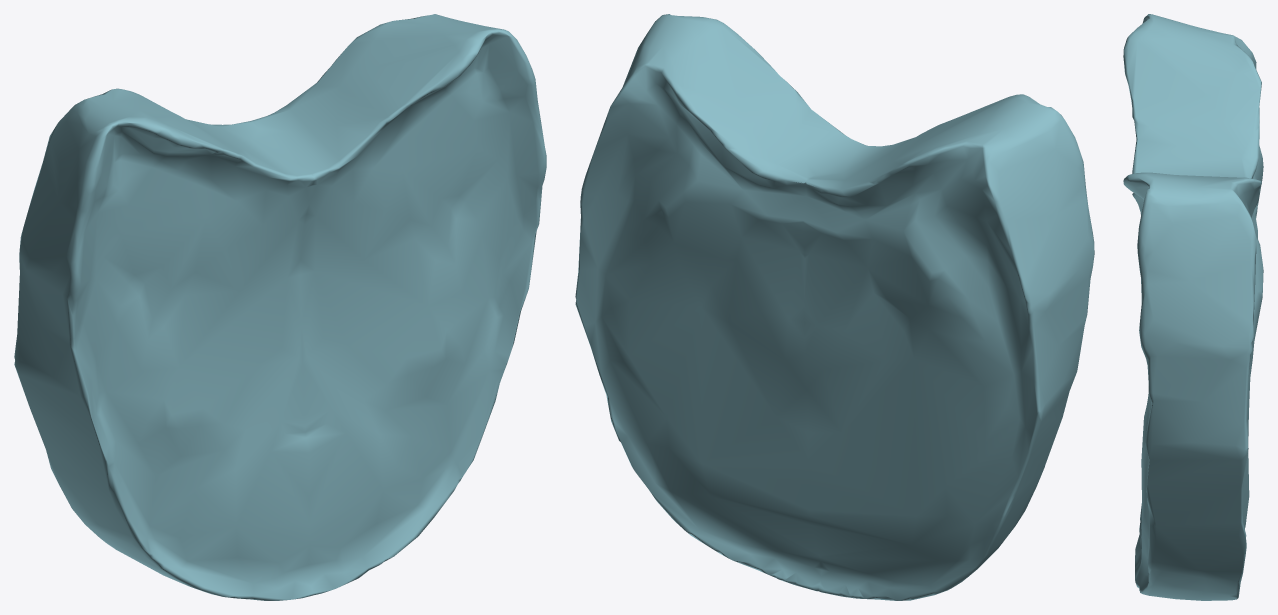
The picture shows the model from 3 angles, left to right: view 1: azimuth 30°, elevation 25°; view 2: azimuth 150°, elevation 25°; view 3: azimuth 270°, elevation 25°; orthographic projection. The views are drawn at different scales.
Parts seen in each view (by area): view 1: 胸6—胸7椎间盘; view 2: 胸6—胸7椎间盘; view 3: 胸6—胸7椎间盘.
Boxes of the visible parts, box(x1,y1,x2,y2) form: 胸6—胸7椎间盘: box(14, 14, 546, 600); 胸6—胸7椎间盘: box(575, 14, 1094, 600); 胸6—胸7椎间盘: box(1123, 14, 1263, 600).
Size of the model in its own units: 0.05 by 0.0518 by 0.0139.
